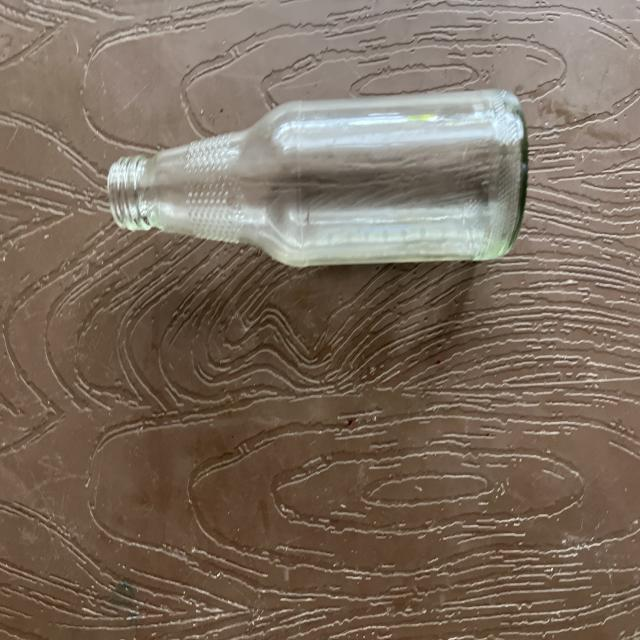Glass_Bottle: (108, 90, 527, 266)
